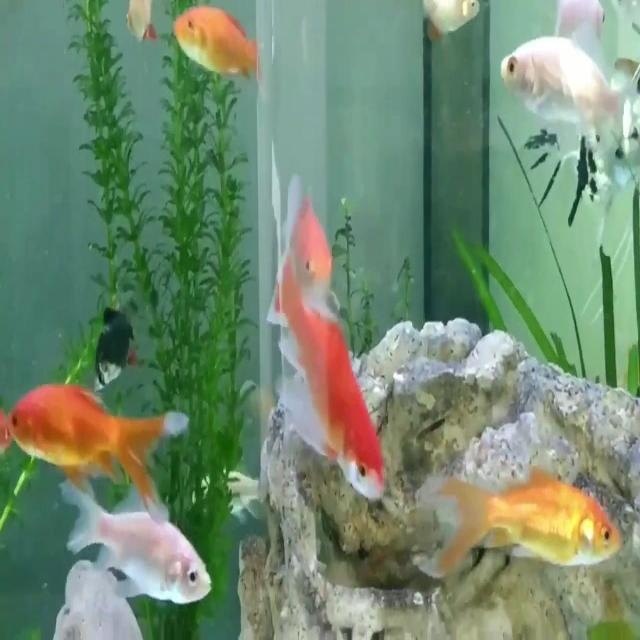GoldFish: (253, 252, 391, 522), (409, 446, 627, 600), (3, 373, 199, 535), (166, 0, 272, 97), (275, 168, 343, 314)
